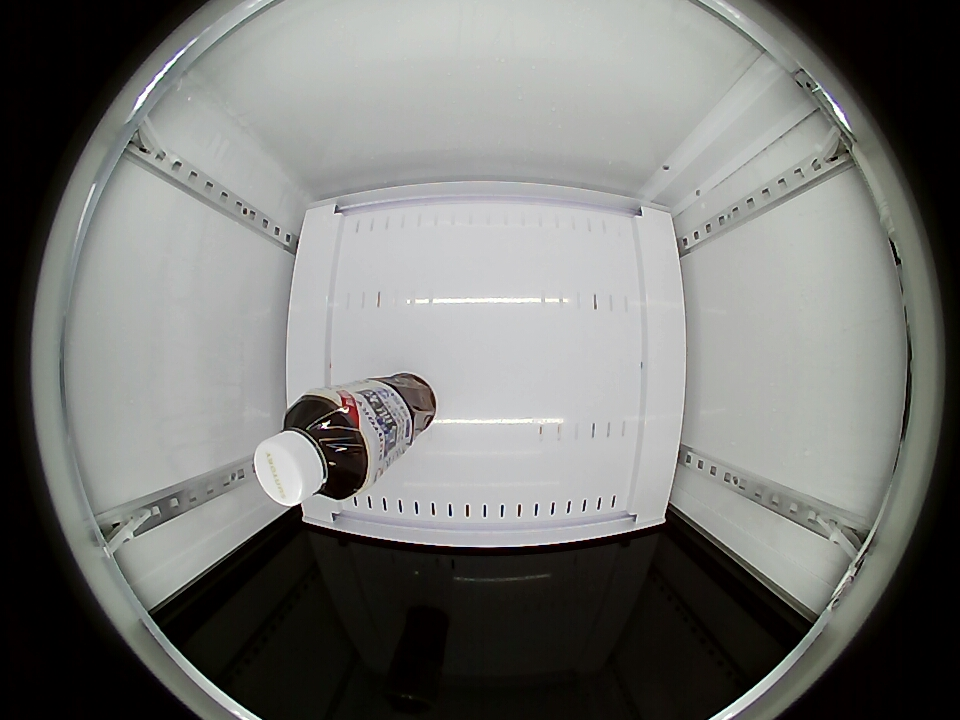wulongcha: (253, 391, 374, 506)
